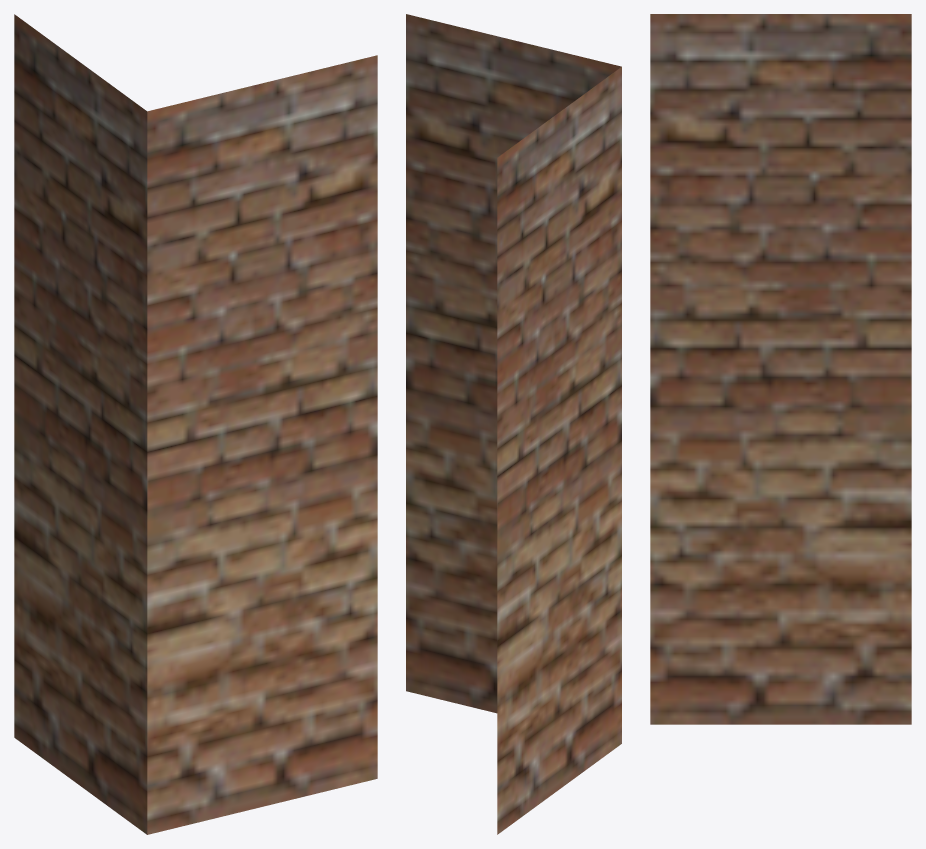
The model's file is Urban_BrickWallCorner_Model.fbx.
The picture shows the model from 3 angles, left to right: view 1: azimuth 30°, elevation 25°; view 2: azimuth 150°, elevation 25°; view 3: azimuth 270°, elevation 25°; orthographic projection. The views are drawn at different scales.
Visible parts, largest first — view 1: Urban_BrickWallCorner_Mesh; view 2: Urban_BrickWallCorner_Mesh; view 3: Urban_BrickWallCorner_Mesh.
Boxes of the visible parts, x1,y1,x2,y2 form: Urban_BrickWallCorner_Mesh: (14, 14, 377, 834); Urban_BrickWallCorner_Mesh: (406, 14, 621, 834); Urban_BrickWallCorner_Mesh: (650, 14, 911, 724).
Bounding box in the file's own units: 0.7 × 2.1 × 0.7.
